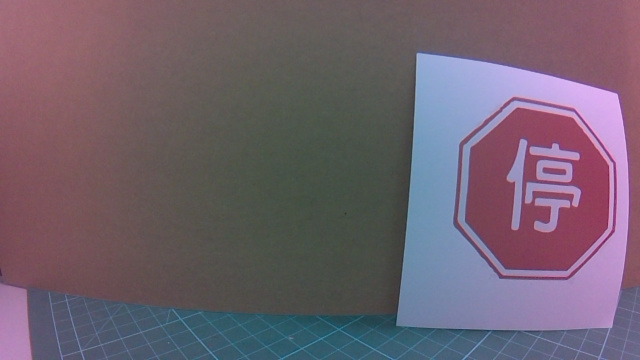stop: (444, 90, 630, 296)
